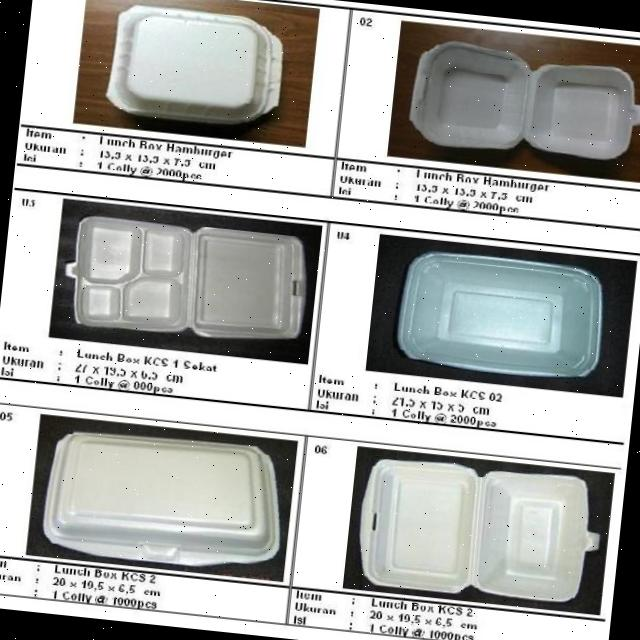styrofoam: (352, 452, 606, 608), (38, 422, 289, 576), (58, 208, 312, 348), (405, 35, 640, 166), (392, 245, 609, 384), (102, 0, 288, 131)
